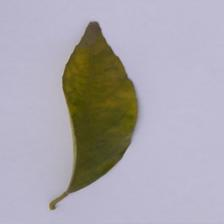greening: (32, 18, 149, 215)
